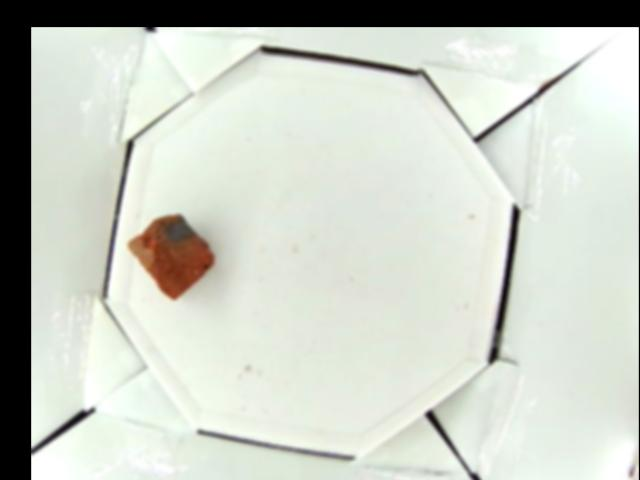Brisk: (126, 214, 212, 298)
